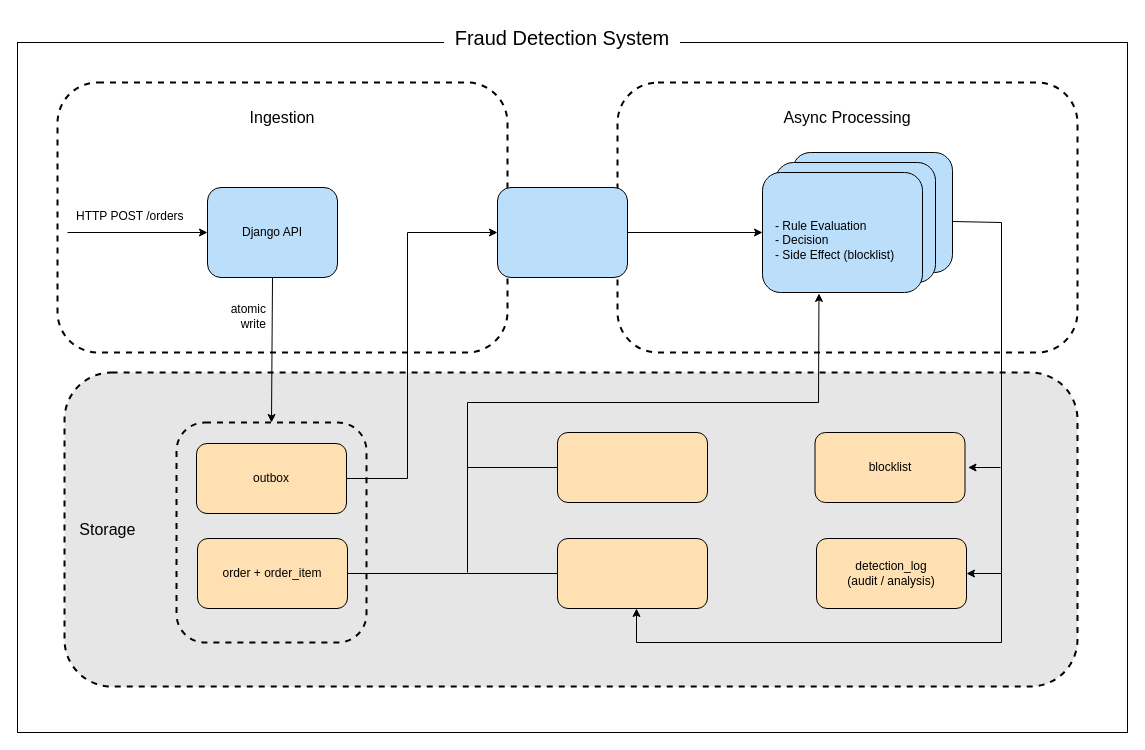
Some shapes in this 1145 by 750 pixel diagram are drawn without their labels. The box of each missing label's shape, as (x1, y1, x2, y2) in pixels:
Celery Worker: (762, 172, 922, 292)
Dispatcher Task: (496, 186, 628, 278)
processed (Idempotency guard): (556, 538, 708, 608)
rules (reference data): (556, 432, 708, 502)
